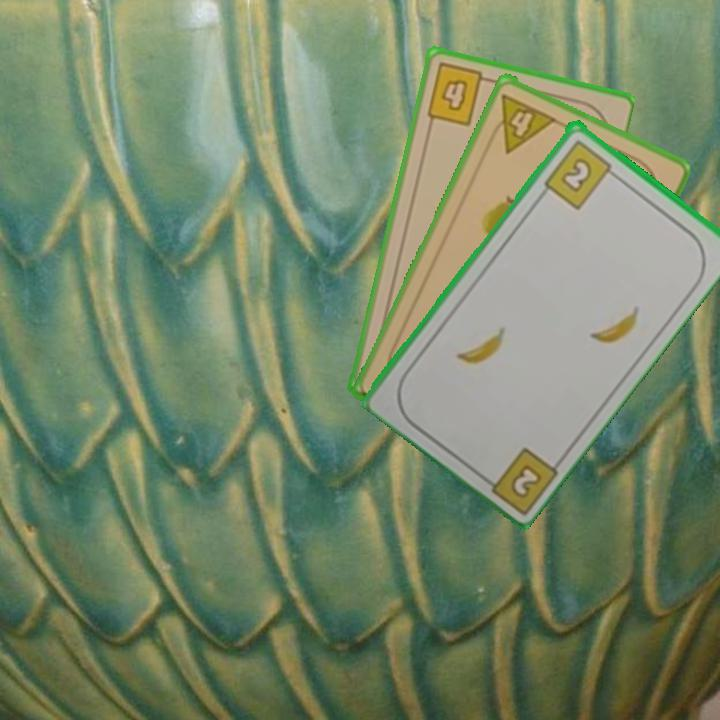2b: (540, 135, 620, 212), (506, 460, 545, 501)
4b: (423, 59, 495, 129)
4p: (484, 90, 560, 155)
